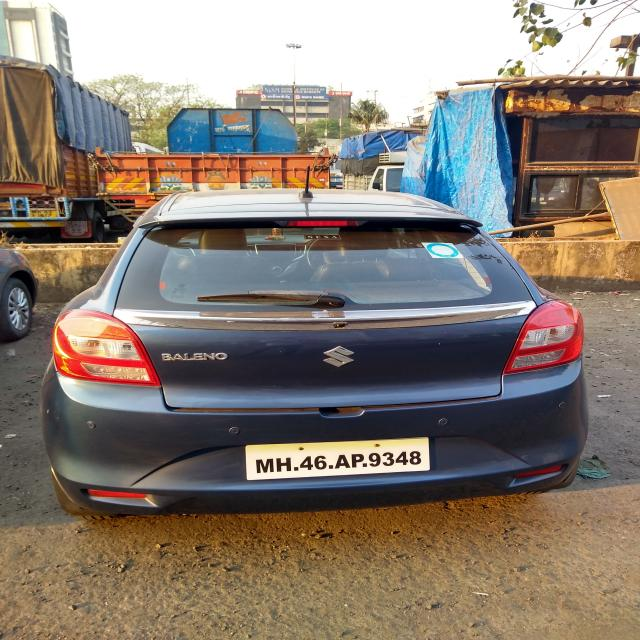Number-Plate: (248, 444, 432, 477)
